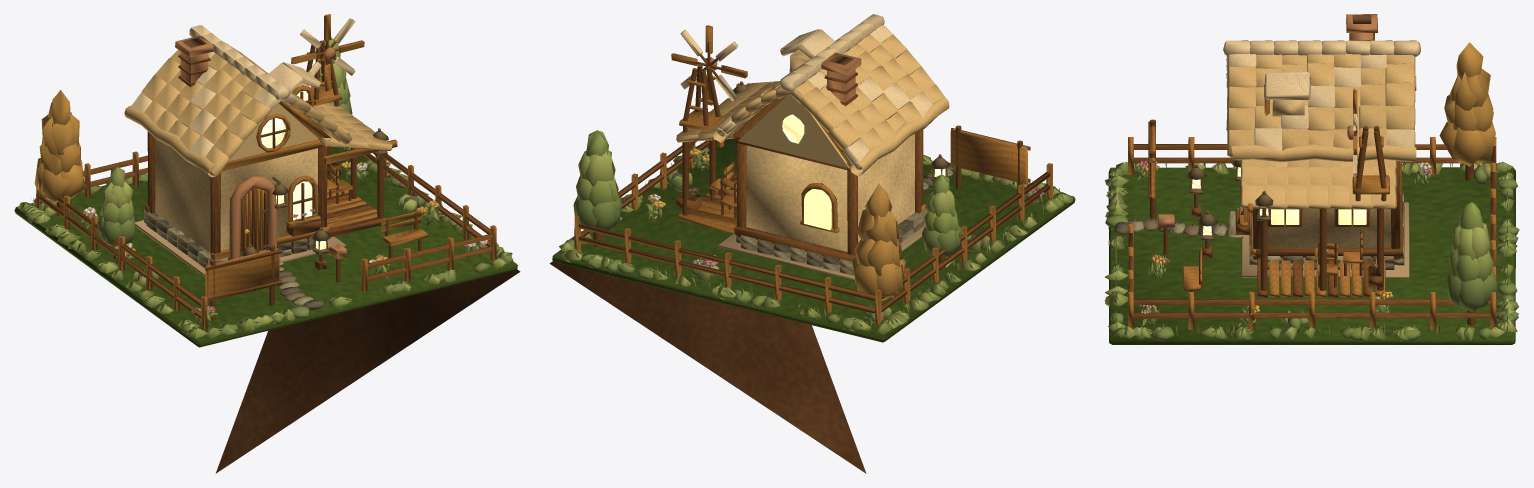
Rendered from cozy-house-low.glb.
The picture shows the model from 3 angles, left to right: view 1: azimuth 30°, elevation 25°; view 2: azimuth 150°, elevation 25°; view 3: azimuth 270°, elevation 25°; orthographic projection. The views are drawn at different scales.
Parts seen in each view (by area): view 1: Surface_Moss lawn, Surface_Ochre earth, Surface_Honey wood, Surface_Golden end grain, Surface_Felt cream, Surface_Warm lime plaster, Surface_Foliage 1, Surface_Felt highlight, Surface_Foliage 3, Surface_Terracotta, Surface_Foliage 2, Surface_Foliage 0 (+6 smaller); view 2: Surface_Moss lawn, Surface_Ochre earth, Surface_Honey wood, Surface_Warm lime plaster, Surface_Felt cream, Surface_Golden end grain, Surface_Foliage 1, Surface_Felt highlight, Surface_Foliage 2, Surface_Foliage 0, Surface_Foliage 3, Surface_Warm window (+5 smaller); view 3: Surface_Moss lawn, Surface_Felt cream, Surface_Honey wood, Surface_Golden end grain, Surface_Felt highlight, Surface_Foliage 1, Surface_Foliage 0, Surface_Foliage 3, Surface_Warm lime plaster, Surface_Foliage 2, Surface_Garden soil, Surface_Warm window (+5 smaller).
Part boxes in pixels (box(x1,y1,x2,y2)): Surface_Moss lawn: box(14, 147, 517, 347); Surface_Ochre earth: box(215, 162, 520, 473); Surface_Honey wood: box(39, 40, 492, 320); Surface_Golden end grain: box(36, 50, 496, 330); Surface_Felt cream: box(124, 36, 392, 177); Surface_Warm lime plaster: box(155, 83, 318, 252); Surface_Foliage 1: box(18, 38, 512, 338); Surface_Felt highlight: box(131, 25, 335, 156); Surface_Foliage 3: box(34, 90, 84, 202); Surface_Terracotta: box(175, 35, 346, 259); Surface_Foliage 2: box(21, 62, 505, 331); Surface_Foliage 0: box(27, 98, 513, 335); Surface_Moss lawn: box(552, 138, 1075, 342); Surface_Ochre earth: box(549, 193, 866, 473); Surface_Honey wood: box(578, 64, 1050, 313); Surface_Warm lime plaster: box(738, 50, 914, 251); Surface_Felt cream: box(676, 32, 949, 176); Surface_Golden end grain: box(574, 74, 1053, 325); Surface_Foliage 1: box(569, 130, 1073, 334); Surface_Felt highlight: box(716, 14, 932, 169); Surface_Foliage 2: box(559, 142, 1063, 331); Surface_Foliage 0: box(564, 139, 1063, 329); Surface_Foliage 3: box(852, 183, 905, 300); Surface_Warm window: box(782, 114, 945, 230); Surface_Moss lawn: box(1108, 167, 1515, 344); Surface_Felt cream: box(1226, 53, 1416, 208); Surface_Honey wood: box(1129, 33, 1495, 325); Surface_Golden end grain: box(1128, 84, 1496, 329); Surface_Felt highlight: box(1223, 40, 1420, 151); Surface_Foliage 1: box(1104, 161, 1517, 340); Surface_Foliage 0: box(1105, 163, 1519, 340); Surface_Foliage 3: box(1439, 42, 1495, 166); Surface_Warm lime plaster: box(1267, 100, 1390, 247); Surface_Foliage 2: box(1105, 158, 1519, 339); Surface_Garden soil: box(1241, 202, 1409, 277); Surface_Warm window: box(1192, 167, 1366, 235).
Size of the model in its own units: 9.58 by 11.51 by 9.52.
22 materials, 10 textured.
